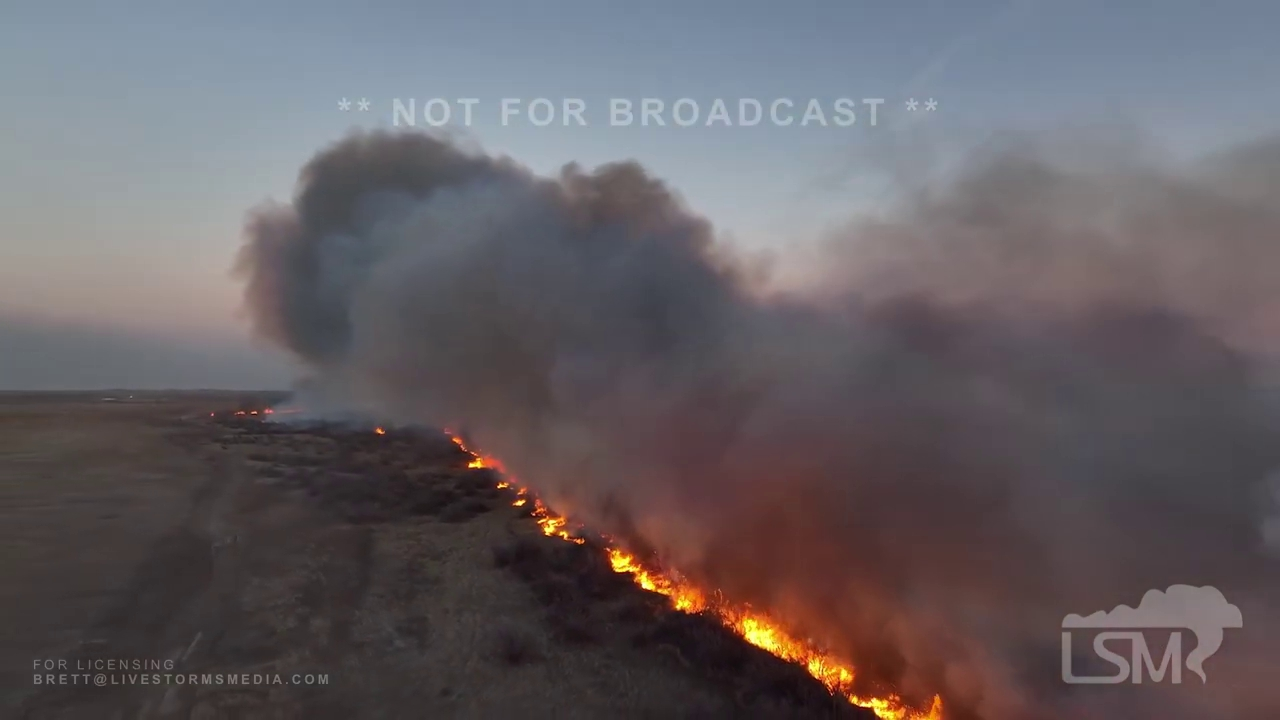forest_fire: (601, 536, 942, 718), (445, 428, 584, 543)
